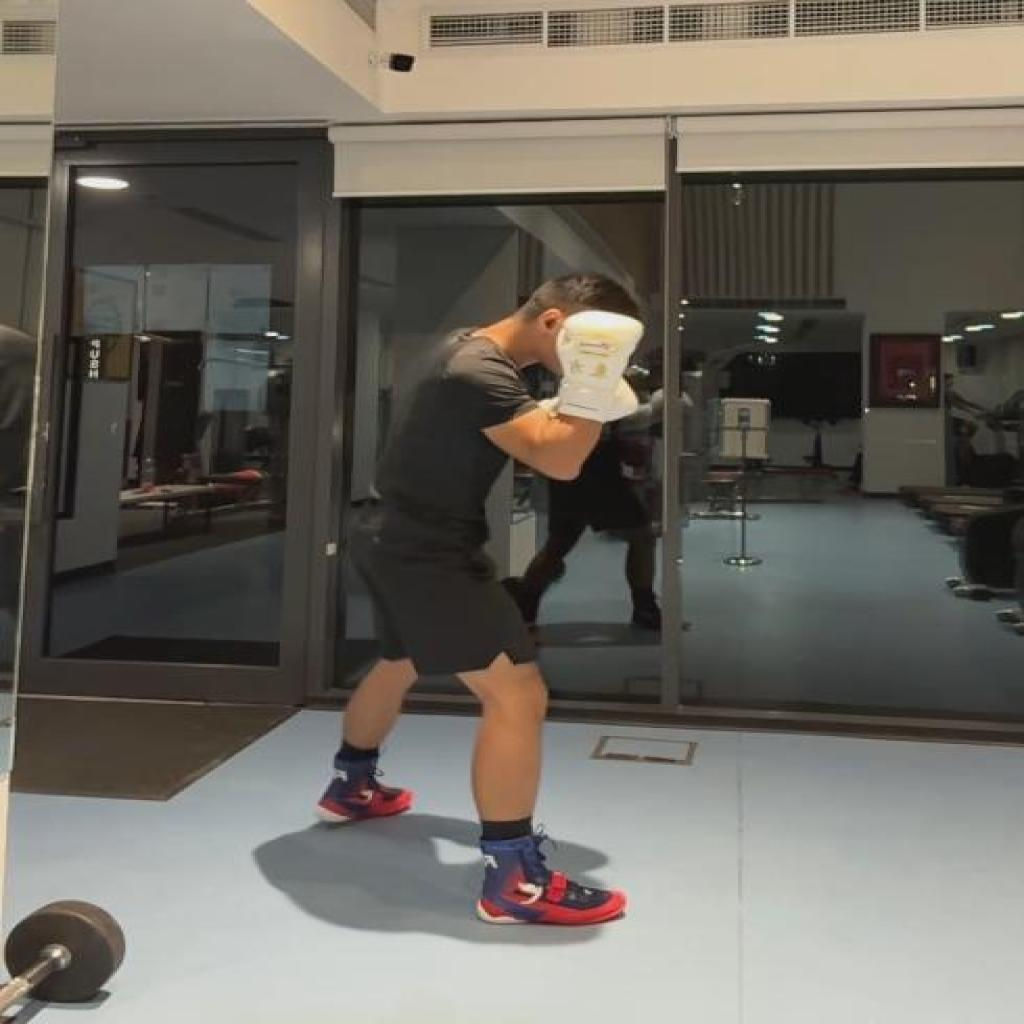no punch: (313, 269, 650, 933)
